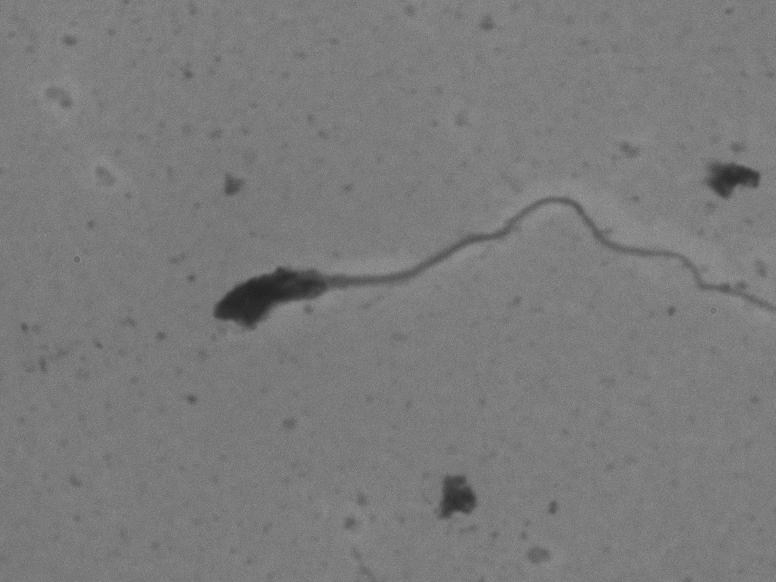Abnormal: (178, 174, 748, 384)
